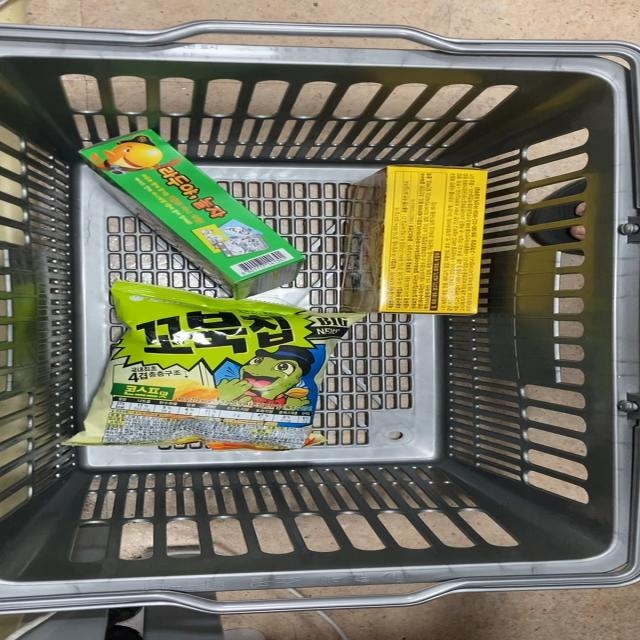ggobukchip: (80, 279, 350, 446)
goraebob: (70, 124, 310, 298)
minicrab: (338, 169, 477, 315)
